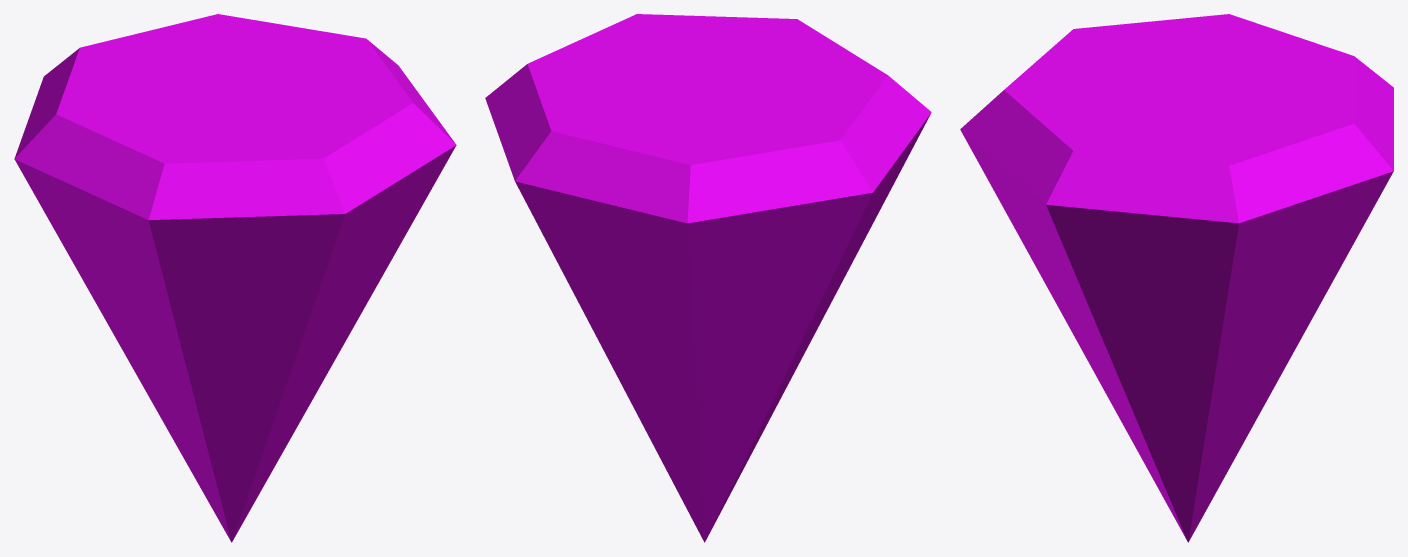
File: Diamond.fbx
3 renders of one model, left to right at view 1: azimuth 30°, elevation 25°; view 2: azimuth 150°, elevation 25°; view 3: azimuth 270°, elevation 25°, orthographic.
Parts seen in each view (by area): view 1: Cone; view 2: Cone; view 3: Cone.
Part boxes in pixels (x1,y1,x2,y2): Cone: (14,14,456,542); Cone: (485,14,931,542); Cone: (960,14,1393,542).
Bounding box in the file's own units: 77.99 × 87.63 × 76.04.
